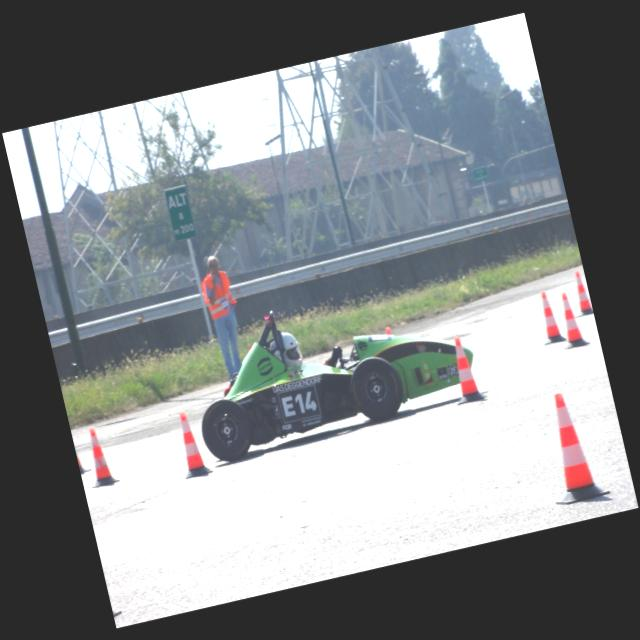large_orange_cone: (532, 387, 610, 507), (442, 334, 488, 404), (171, 408, 213, 479), (78, 424, 120, 488), (550, 289, 590, 349), (534, 288, 566, 344), (565, 270, 593, 318)
